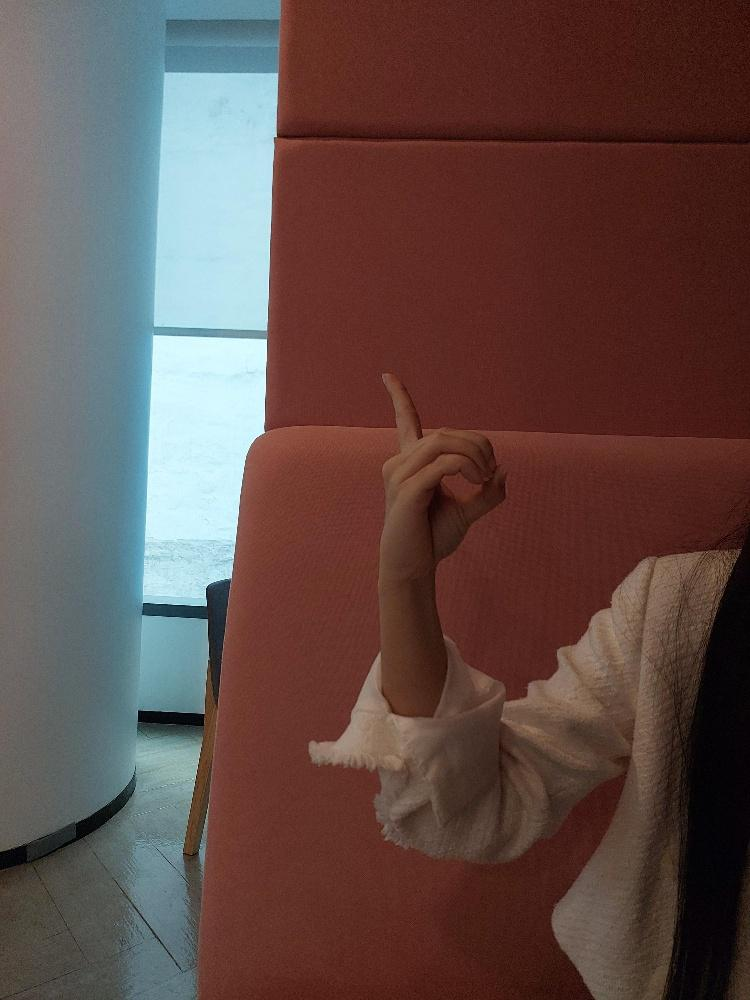d: (379, 369, 507, 569)
